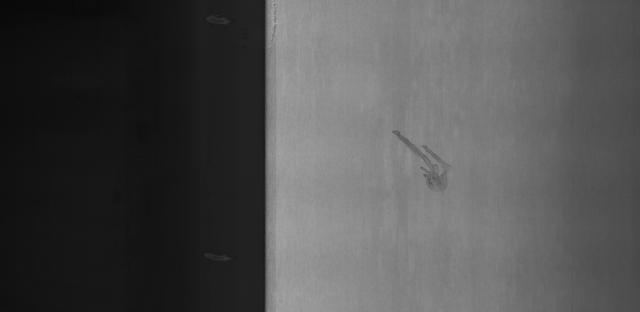water_spot: (388, 119, 465, 201)
